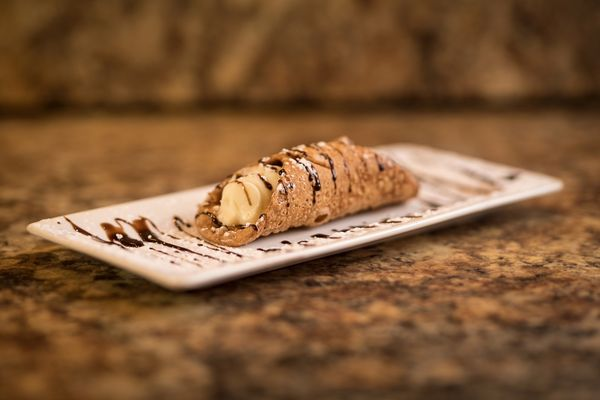pasta: (186, 134, 419, 247)
